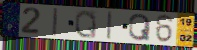2: (21, 6, 43, 36)
6: (155, 14, 175, 44)
I: (105, 10, 113, 41), (52, 7, 59, 37)
Q: (74, 9, 98, 39), (128, 13, 152, 42)
